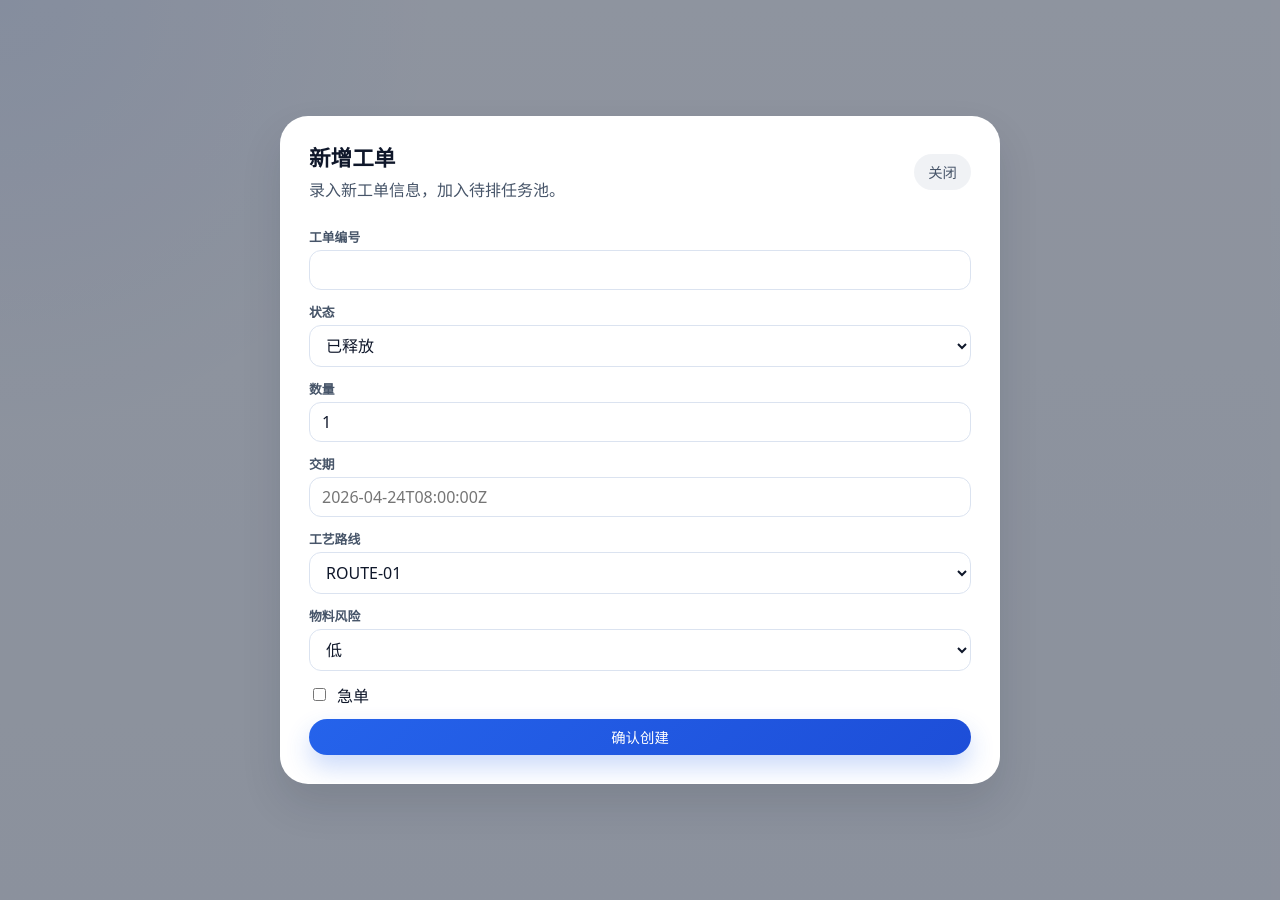
Test: CreateWorkOrderDialog › 创建失败时显示错误信息
Type "WO-002" into the field named "工单编号" at (640,270), box [309, 250, 971, 290]
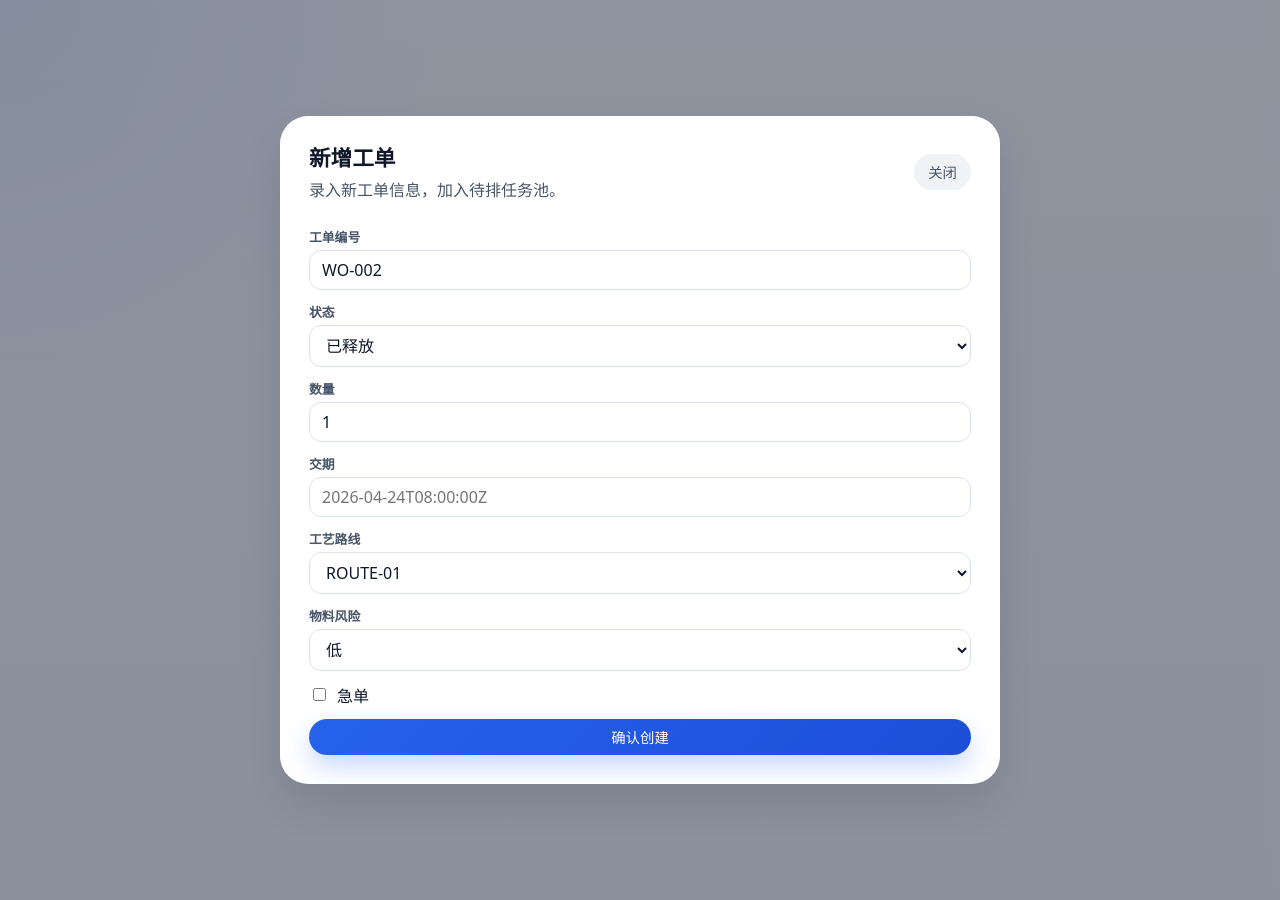
Type "2026-04-25T08:00:00Z" into the field named "交期" at (640,497), box [309, 477, 971, 517]
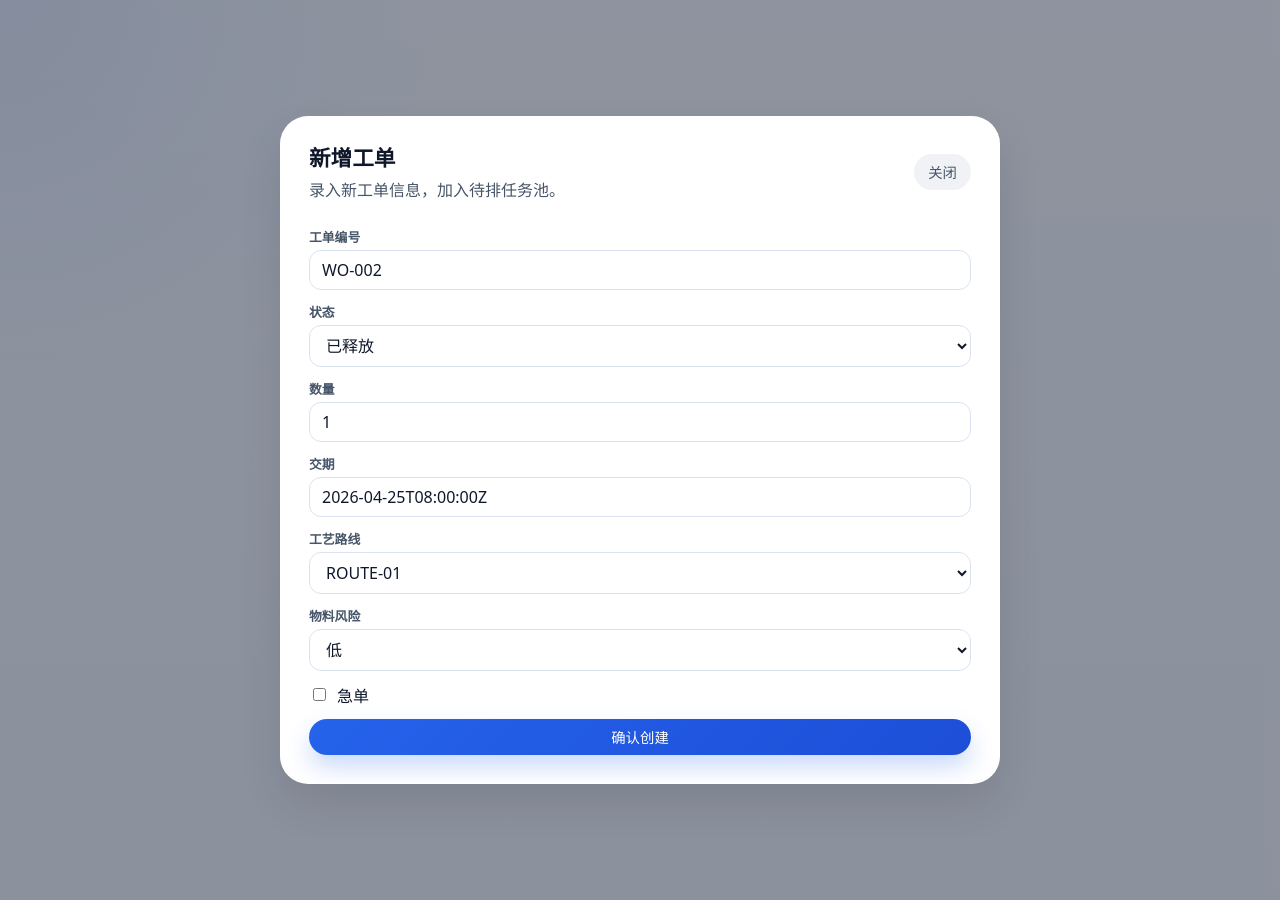
Click the button with test id "submit-create-work-order" at (640,737), box [309, 719, 971, 755]
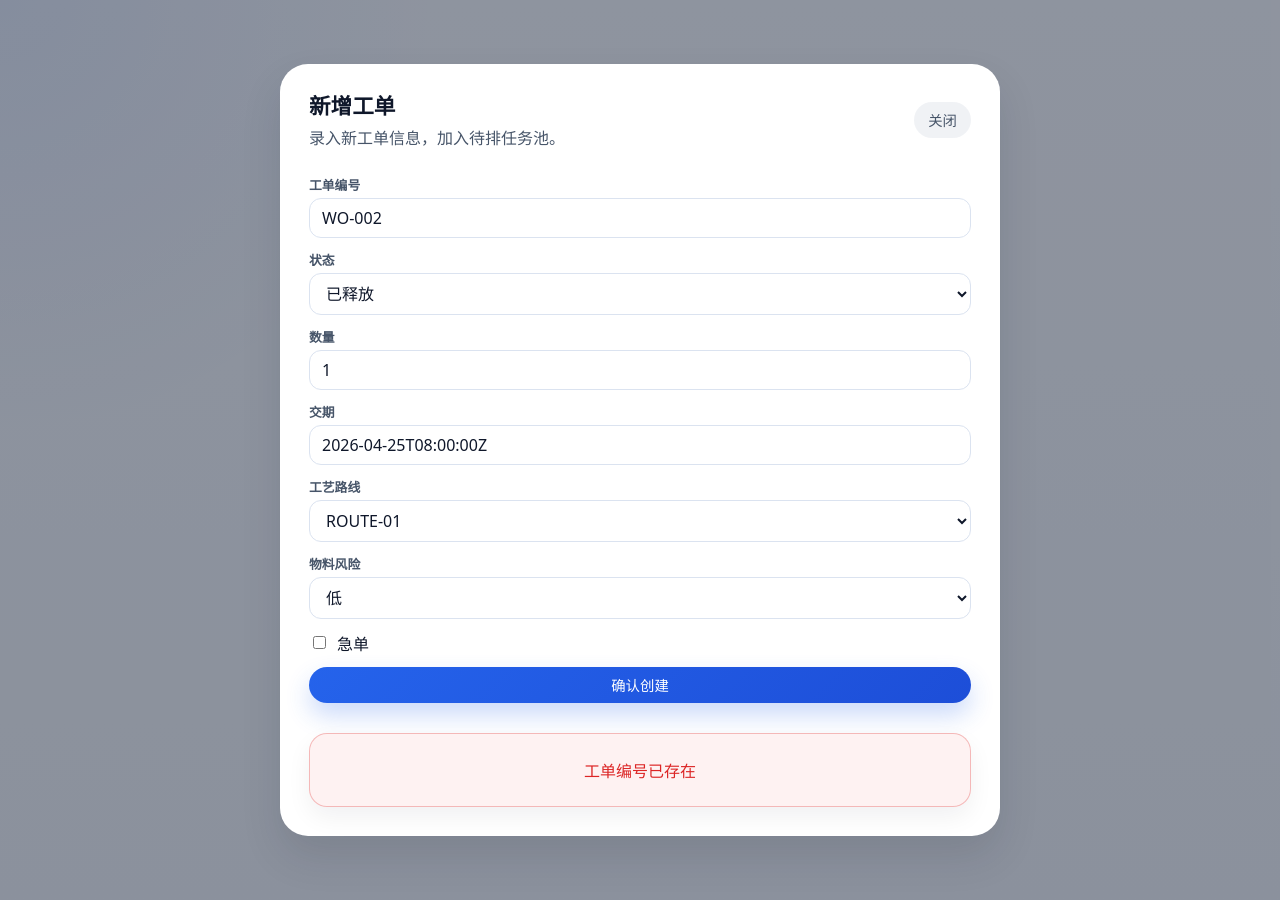
expect the text "工单编号已存在" is shown: met, box [309, 733, 971, 807]
